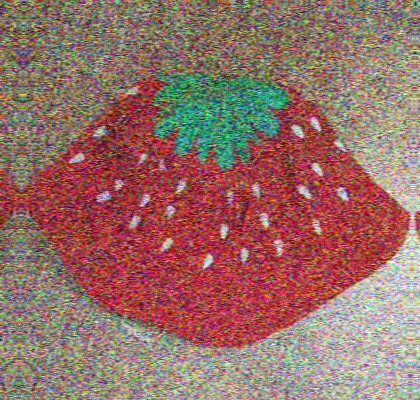Hat: (25, 47, 404, 358), (0, 42, 17, 352)
